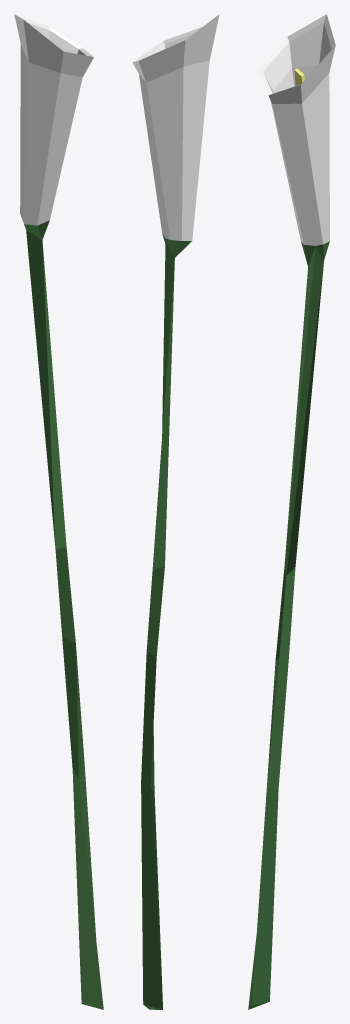
The model's file is flowercalla.gltf.
3 views of the same model, side by side, from view 1: azimuth 90°, elevation 25°; view 2: azimuth 210°, elevation 25°; view 3: azimuth 270°, elevation 25° (orthographic). The views are drawn at different scales.
Visible parts, largest first — view 1: Cylinder; view 2: Cylinder; view 3: Cylinder.
Part boxes in pixels (x1,y1,x2,y2): Cylinder: (14,14,103,1009); Cylinder: (132,14,219,1009); Cylinder: (248,14,335,1009).
Bounding box in the file's own units: 0.0554 × 0.7005 × 0.0566.
1 material, 1 textured.
